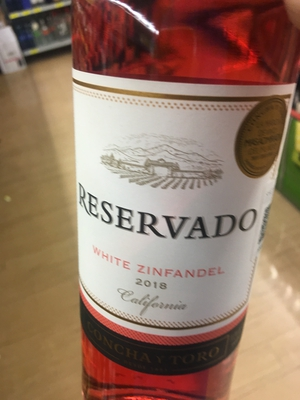reservado white zinfandel: (74, 5, 294, 400)
